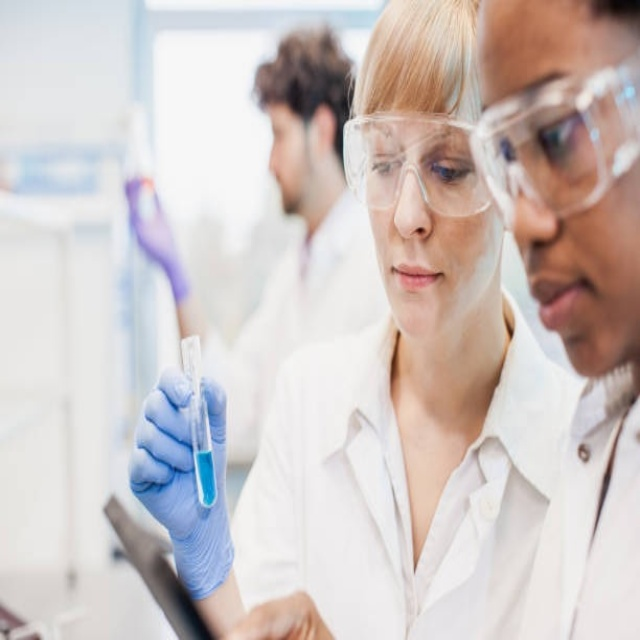Gafas: (471, 44, 639, 226), (344, 113, 498, 217)
Guantes: (129, 366, 234, 603), (126, 178, 193, 306)
Sin_guantes: (222, 591, 332, 640)
Sin_mascara: (523, 256, 608, 365), (383, 248, 455, 322)
